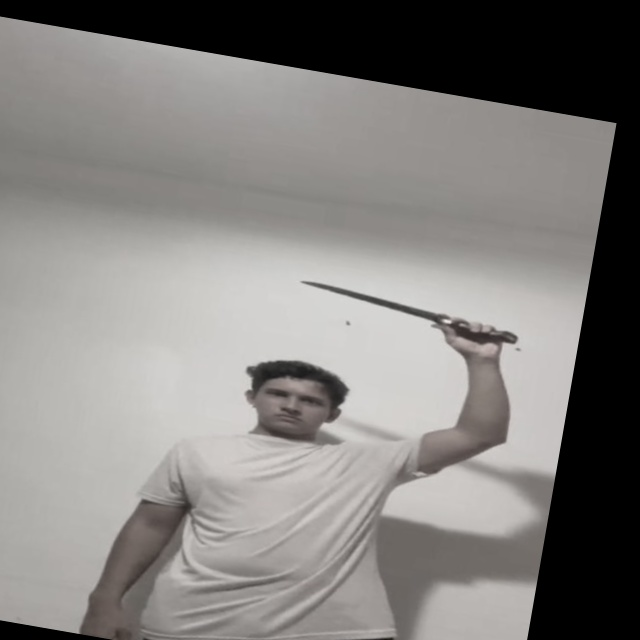Sharp-Object: (297, 278, 444, 322)
